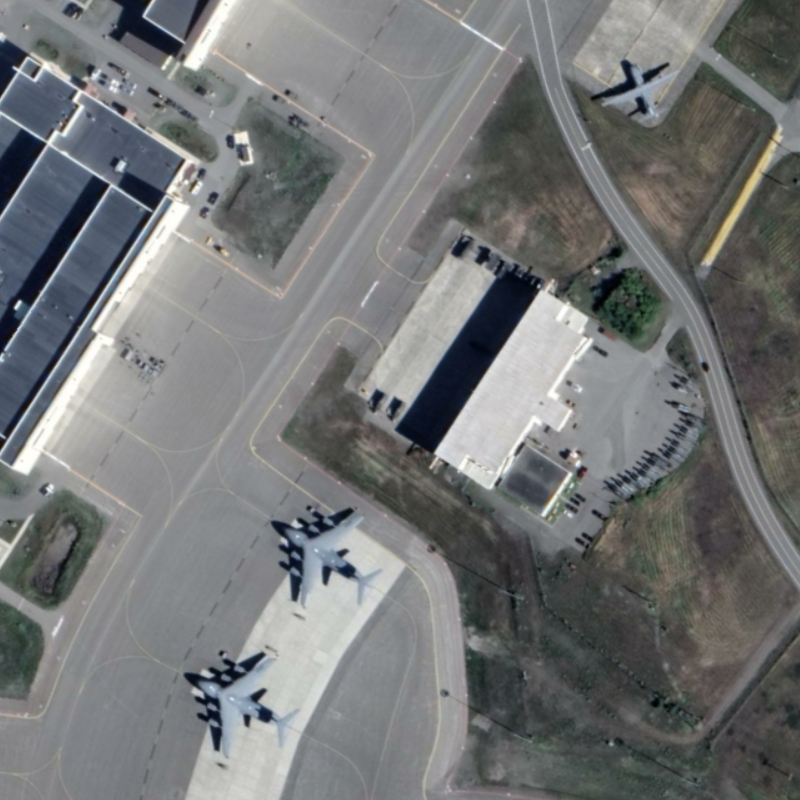A2: (593, 52, 681, 128)
A3: (268, 494, 387, 618), (177, 644, 300, 762)
